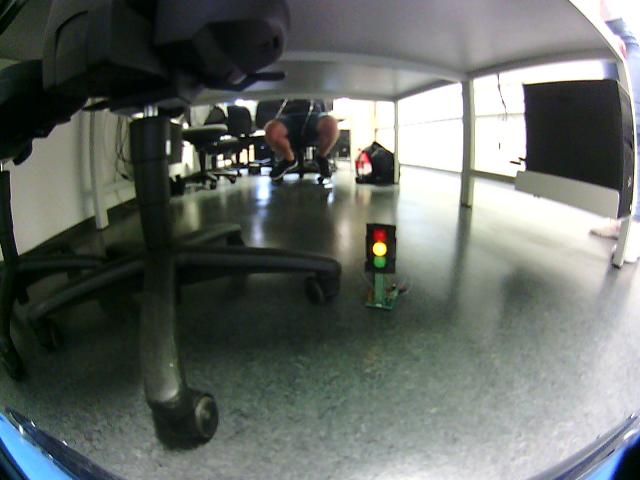yellow trafficlight: (366, 227, 392, 273)
